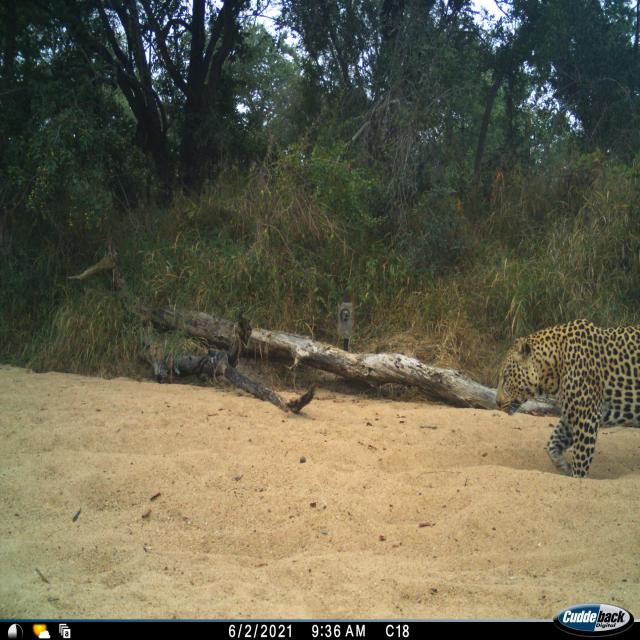Leopard: (494, 299, 640, 495)
